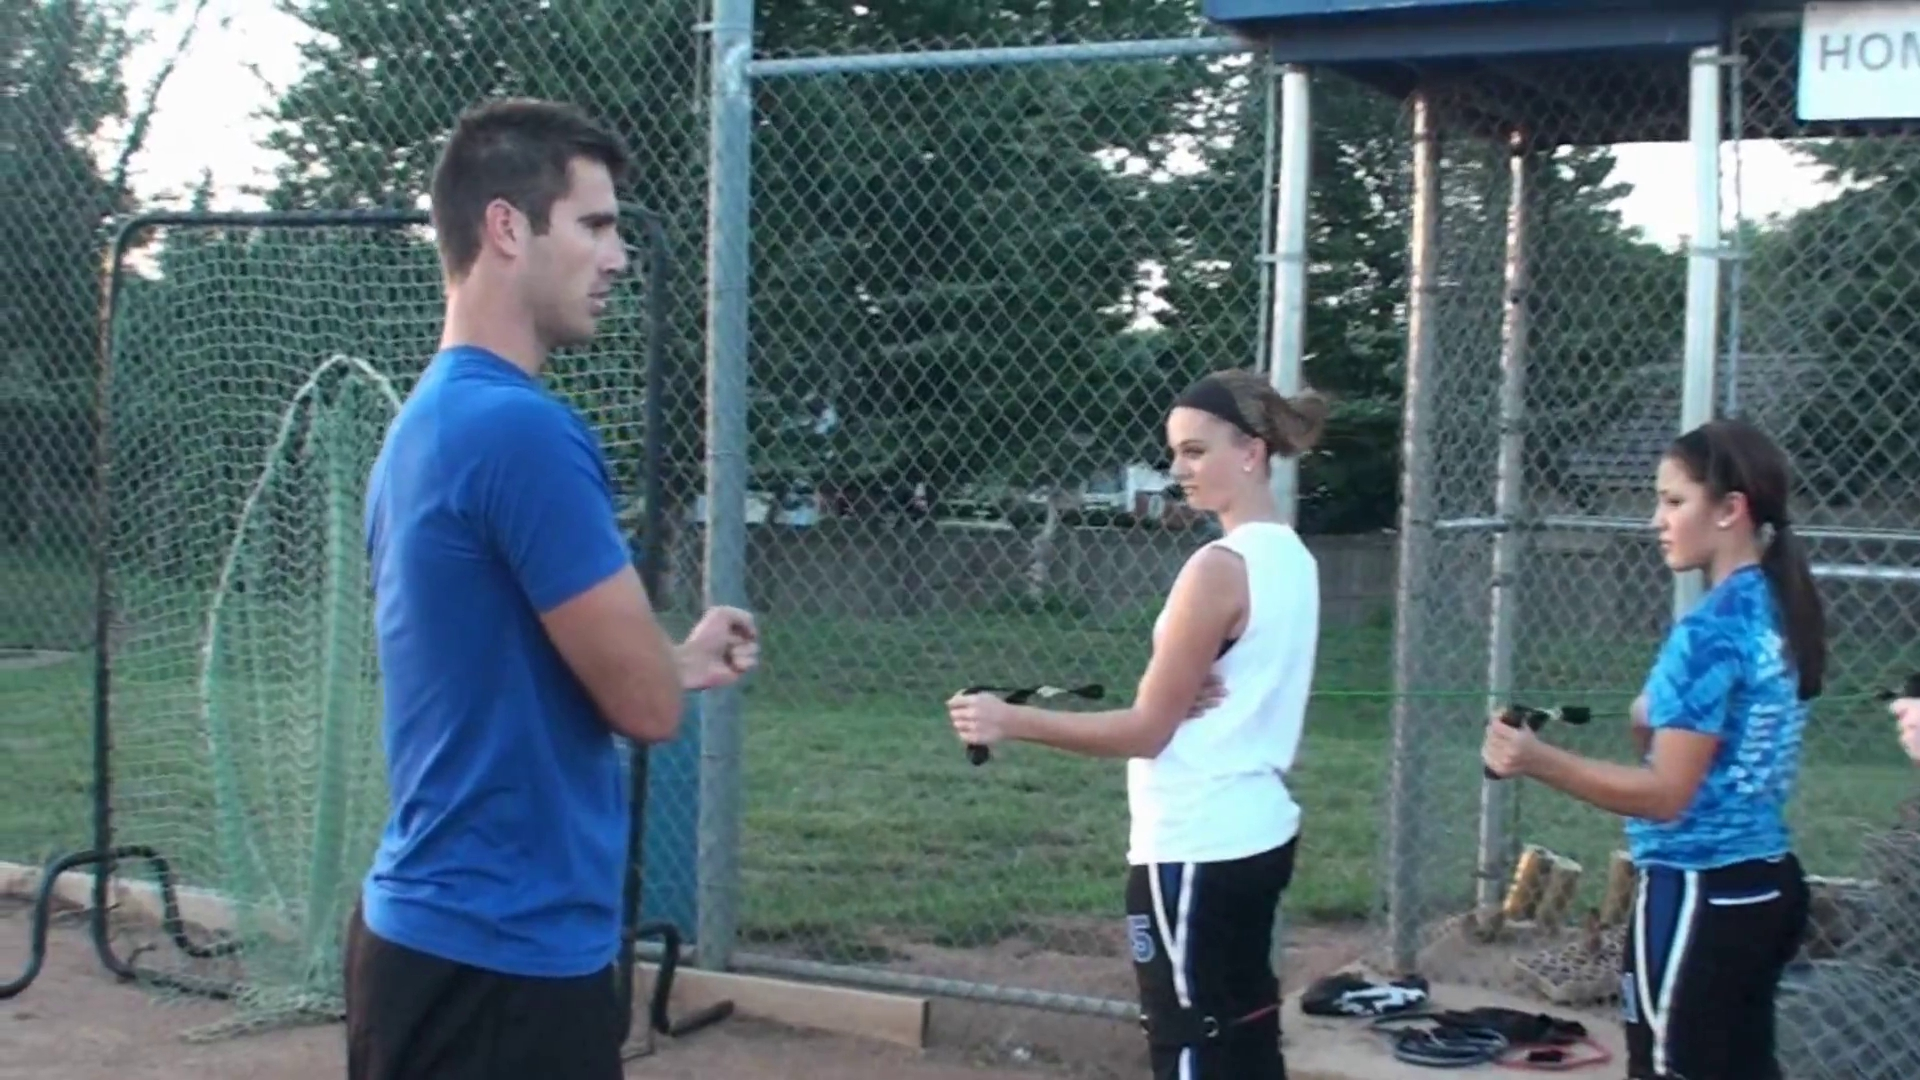person: (342, 100, 759, 1079), (947, 371, 1321, 1079), (1483, 422, 1826, 1080)
